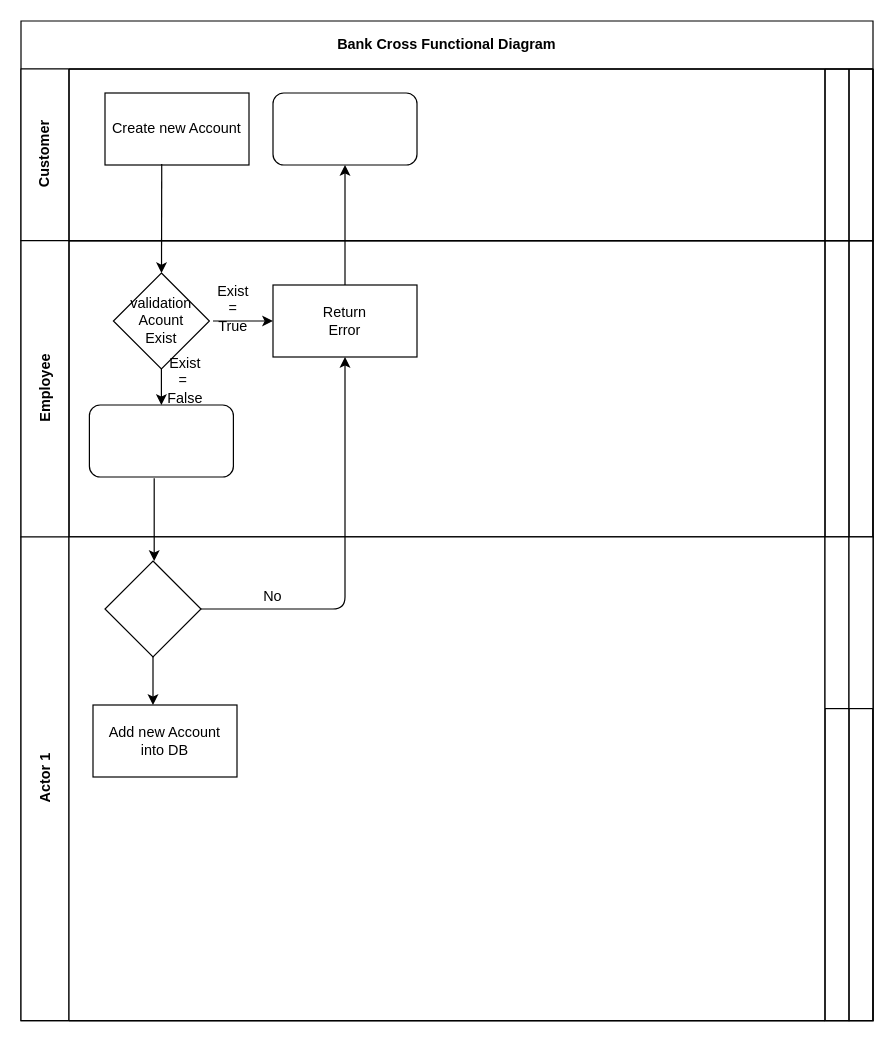
Image size: 894x1042. Some labels were removed from this diagram. Here are the shapes that lost their labels. From the top down, the centre of each, then its label:
At point 344,128: "End".
At point 160,440: "Confirm Account".
At point 152,608: "Approval New Account".
